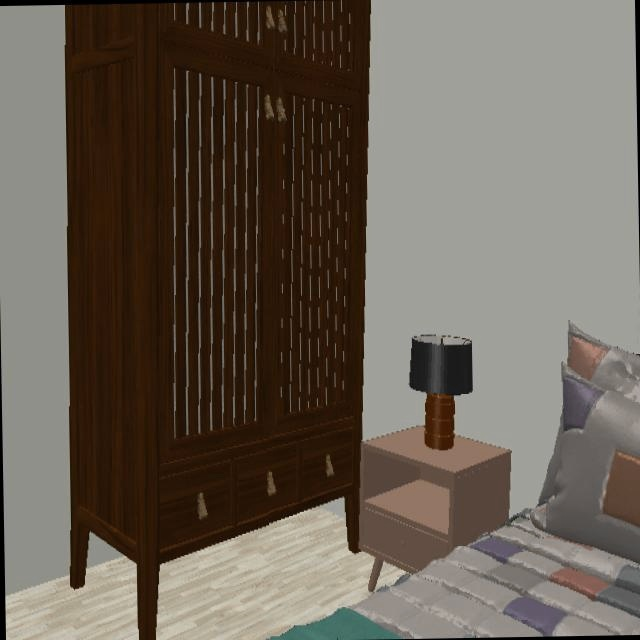bed: (273, 334, 640, 640)
lamp: (409, 333, 474, 451)
nighttable: (352, 426, 511, 574)
wardrobe: (65, 0, 370, 639)
